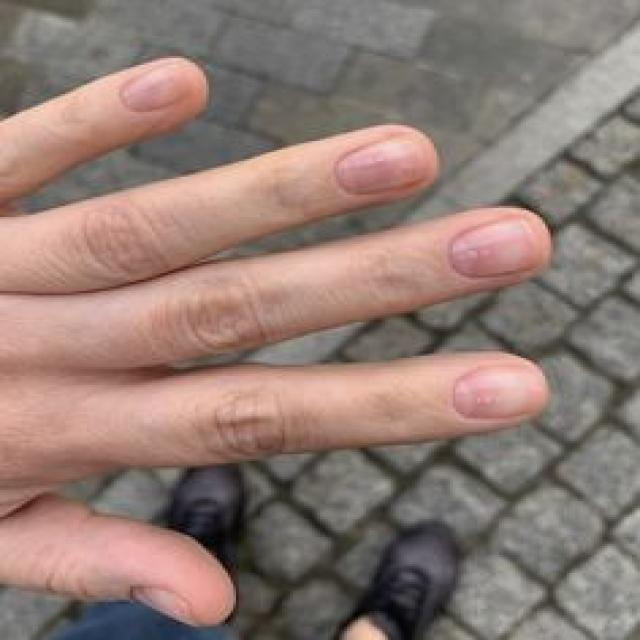Fingernail: (336, 135, 429, 195), (450, 217, 538, 277), (455, 366, 544, 418), (119, 63, 191, 111), (133, 586, 200, 627)
